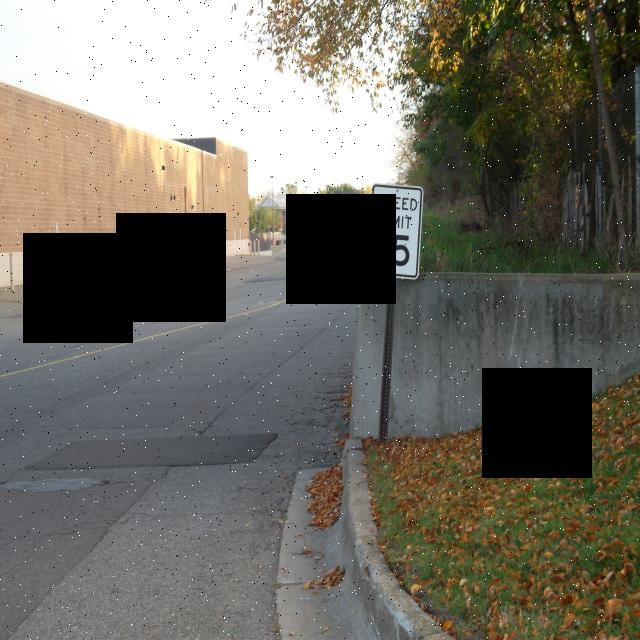regulatory: (367, 184, 422, 284)
